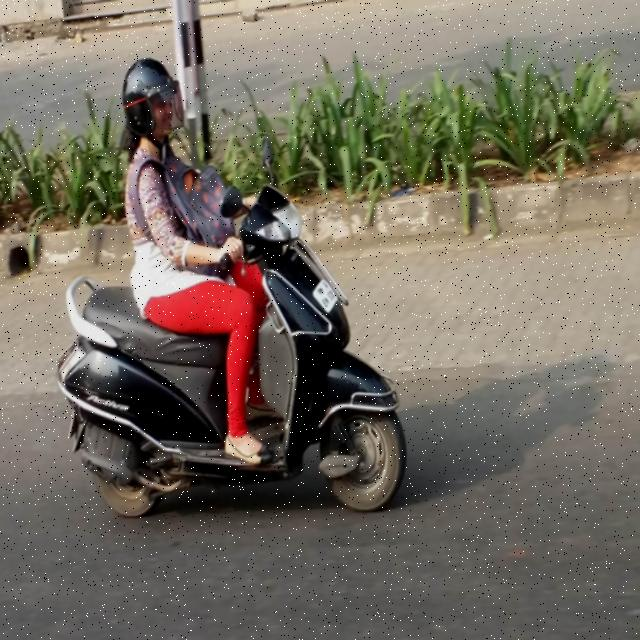not_triplets: (56, 49, 407, 519)
with-helmet: (120, 51, 192, 150)
